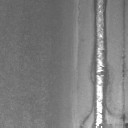slag inclusion: (80, 0, 112, 128), (122, 0, 126, 78), (122, 114, 128, 128)
